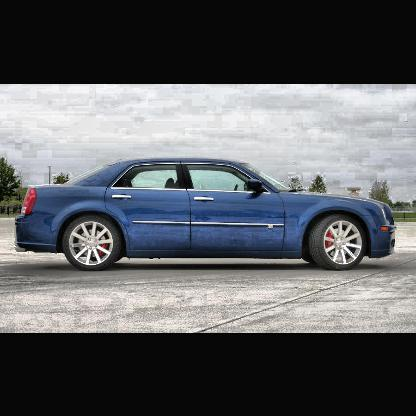Chrysler 300 SRT-8 2010: (14, 155, 398, 269)
